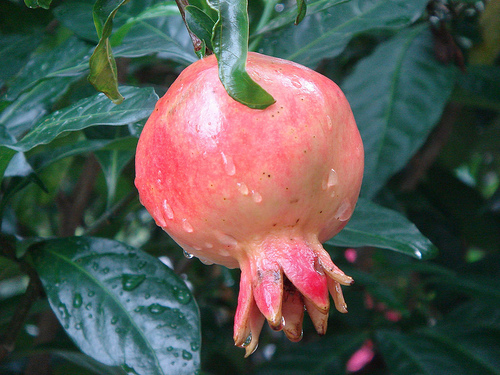pomogranate: (132, 47, 367, 360)
